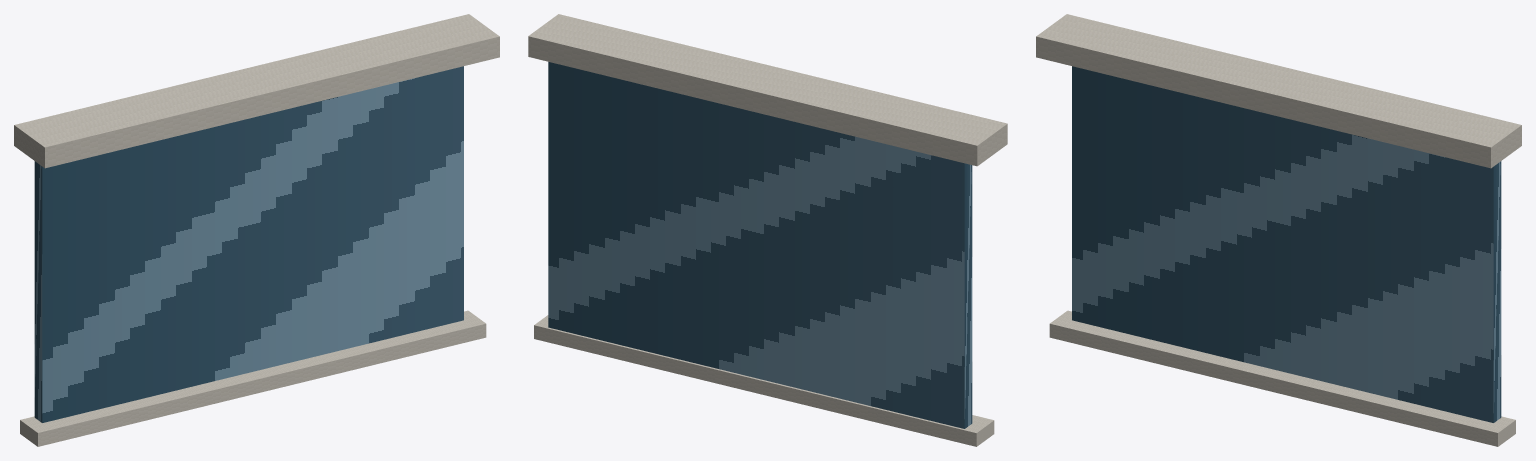
The model's file is window-modern-lod1.glb.
The picture shows the model from 3 angles, left to right: view 1: azimuth 30°, elevation 25°; view 2: azimuth 150°, elevation 25°; view 3: azimuth 330°, elevation 25°; orthographic projection.
Visible parts, largest first — view 1: window-modern-lod1; view 2: window-modern-lod1; view 3: window-modern-lod1.
Boxes of the visible parts, x1,y1,x2,y2 form: window-modern-lod1: [14, 14, 499, 446]; window-modern-lod1: [528, 14, 1007, 446]; window-modern-lod1: [1036, 14, 1521, 446].
Bounding box in the file's own units: 2.05 × 1.32 × 0.24.
1 material, 1 textured.
